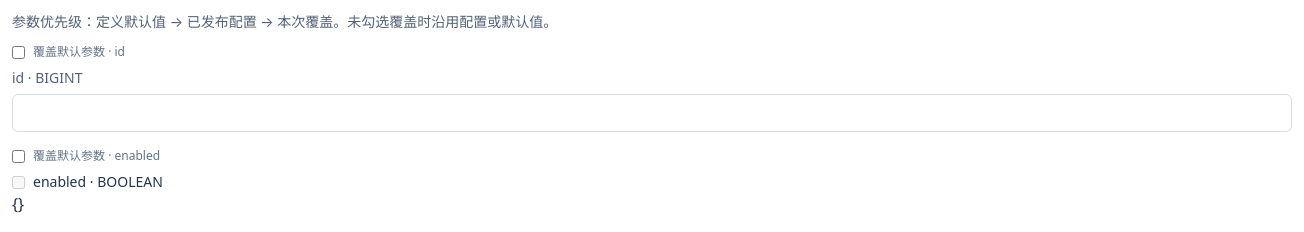
actual runtime configuration editing and parameter inheritance › inherits required parameters without sending configuration values or implicit boolean overrides
The width and height of the screenshot is (1304, 232).
Check: the field labelled "id · BIGINT" is disabled, box [12,94,1292,132]
Click the checkbox labelled "覆盖默认参数 · id" at (18,52), box [12,46,25,58]
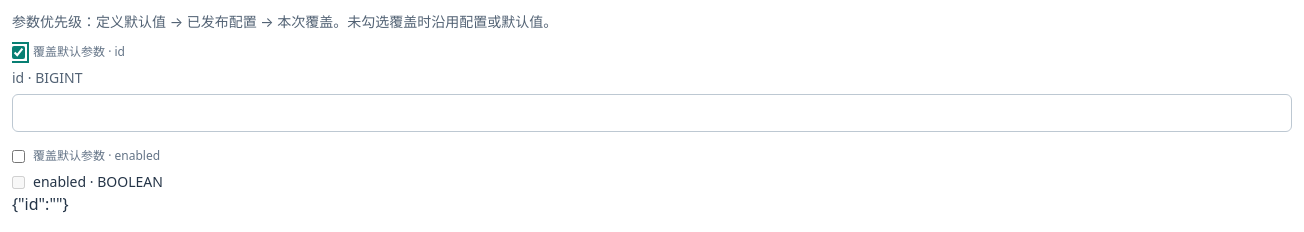
Type "9223372036854775807" into the field labelled "id · BIGINT" at (652,113), box [12,94,1292,132]
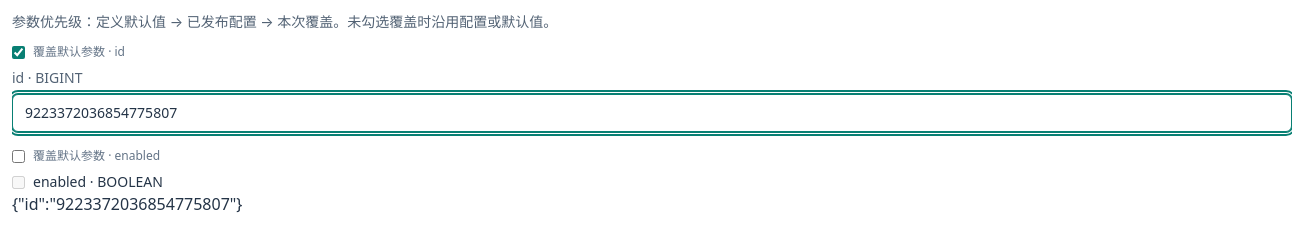
Check: the text "{\"id\":\"9223372036854775807\"}" does not show "enabled", box [12,193,242,215]
Check: the text "{\"id\":\"9223372036854775807\"}" shows "\"id\":\"9223372036854775807\"", box [12,193,242,215]
Click the checkbox labelled "覆盖默认参数 · id" at (18,52), box [12,46,25,58]
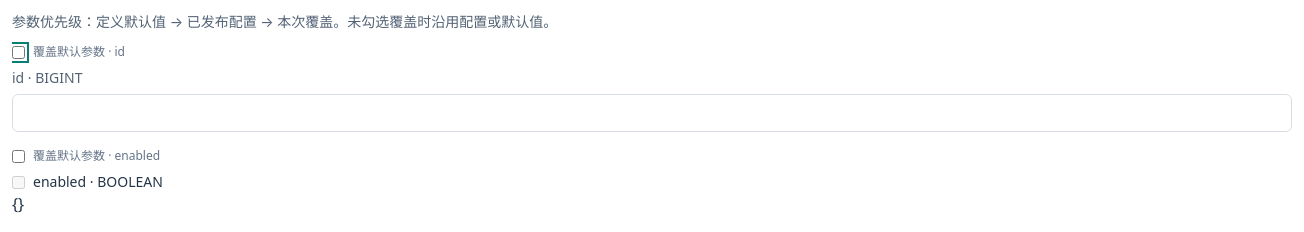
Check: the text "{}" is shown, box [12,193,24,215]
